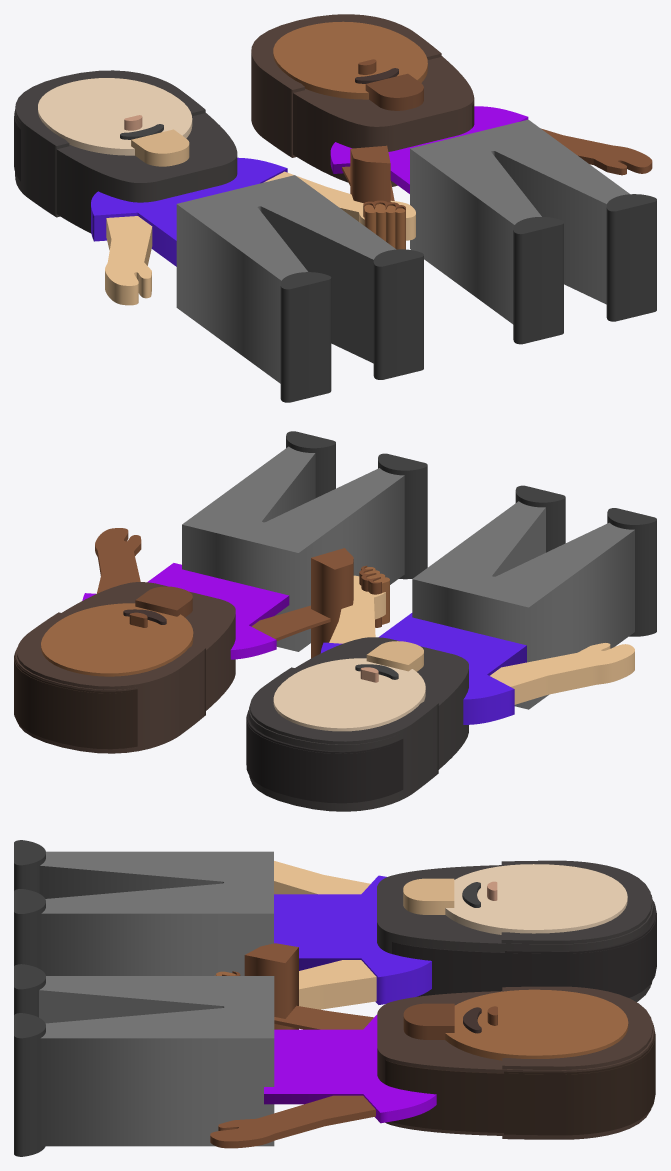
File: emoji_u1f469_1f3fb_200d_1f91d_200d_1f469_1f3fe.glb
3 views of the same model, one above another, from view 1: azimuth 30°, elevation 25°; view 2: azimuth 150°, elevation 25°; view 3: azimuth 270°, elevation 25° (orthographic). The views are drawn at different scales.
Parts seen in each view (by area): view 1: emoji_u1f469_1f3fb_200d_1f91d_200d_1f469_1f3fe; view 2: emoji_u1f469_1f3fb_200d_1f91d_200d_1f469_1f3fe; view 3: emoji_u1f469_1f3fb_200d_1f91d_200d_1f469_1f3fe.
Boxes of the visible parts, <box> form: emoji_u1f469_1f3fb_200d_1f91d_200d_1f469_1f3fe: <box>14,14,656,402</box>; emoji_u1f469_1f3fb_200d_1f91d_200d_1f469_1f3fe: <box>14,431,656,811</box>; emoji_u1f469_1f3fb_200d_1f91d_200d_1f469_1f3fe: <box>14,840,656,1156</box>.
Bounding box in the file's own units: 0.0346 × 0.007 × 0.0334.
